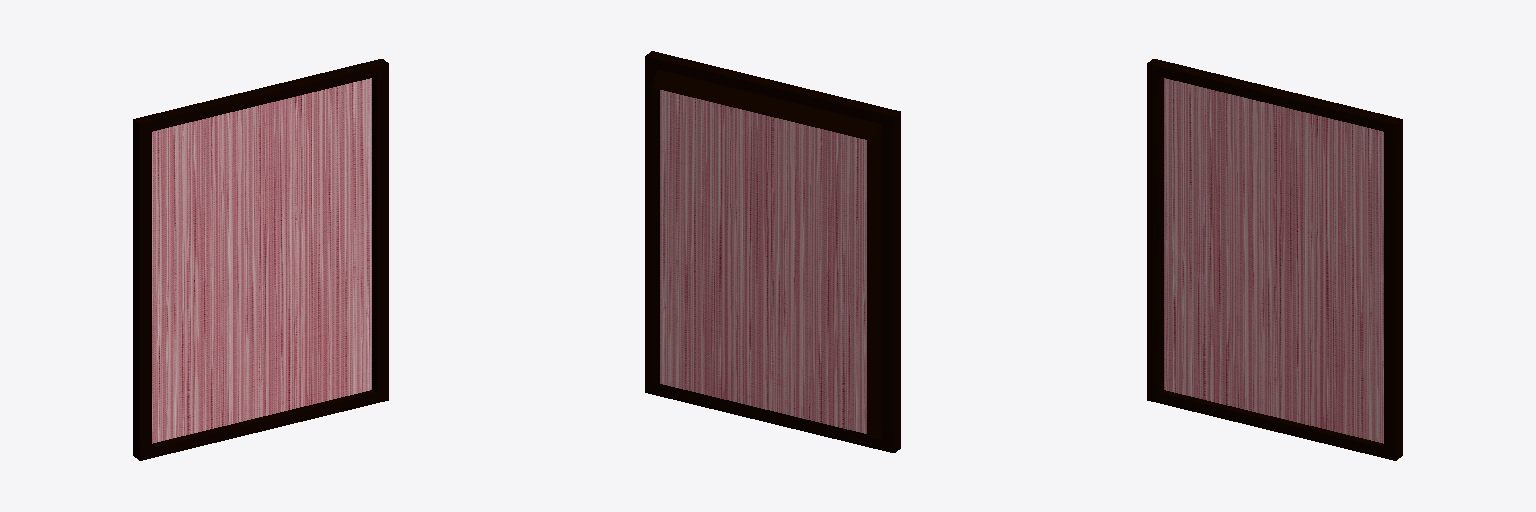
3 renders of one model, left to right at view 1: azimuth 30°, elevation 25°; view 2: azimuth 150°, elevation 25°; view 3: azimuth 330°, elevation 25°, orthographic.
Parts seen in each view (by area): view 1: house_interior:Box043 group1; view 2: house_interior:Box043 group1; view 3: house_interior:Box043 group1.
Boxes of the visible parts, x1=… form: house_interior:Box043 group1: x1=133, y1=59, x2=388, y2=460; house_interior:Box043 group1: x1=645, y1=51, x2=900, y2=452; house_interior:Box043 group1: x1=1147, y1=59, x2=1402, y2=460.
Size of the model in its own units: 1.68 by 2.17 by 0.2033.
2 materials, 1 textured.